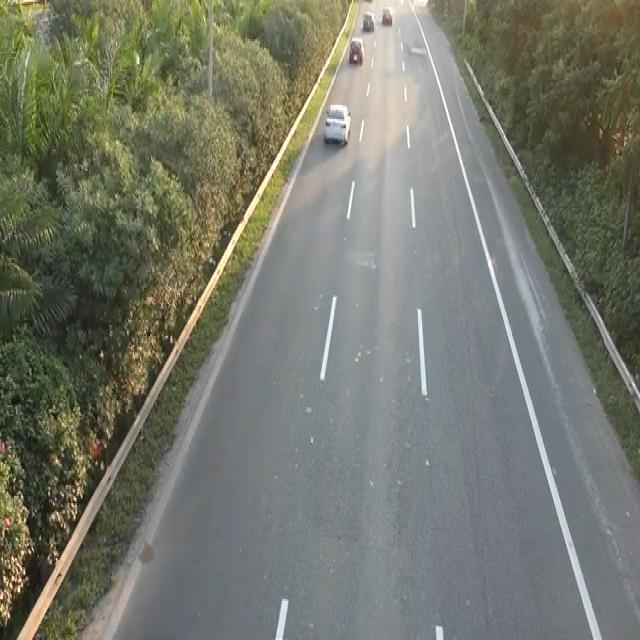bus: (321, 99, 354, 153), (347, 34, 365, 64), (361, 9, 375, 30), (380, 5, 392, 25)
